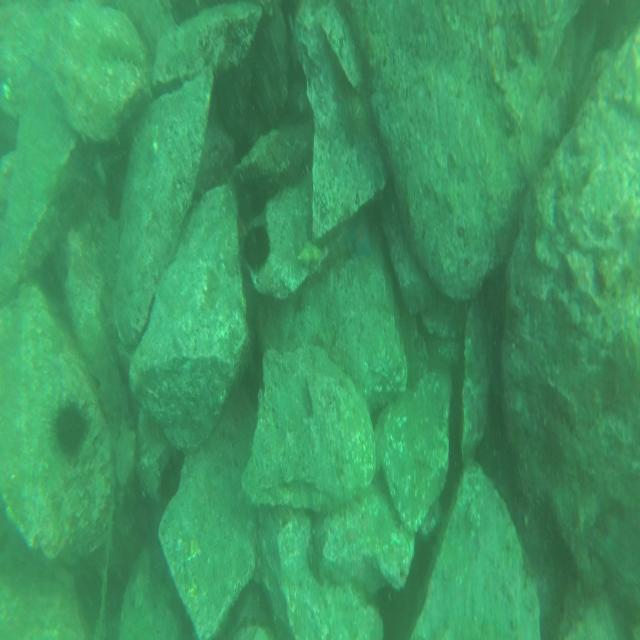echinus: (45, 401, 93, 461), (338, 88, 378, 148), (242, 220, 272, 270), (156, 450, 182, 504)
starfish: (348, 216, 375, 264)
